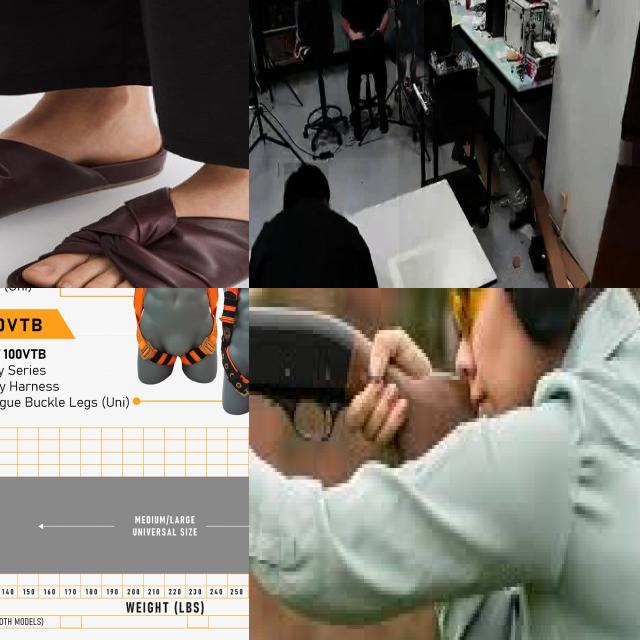Harness: (130, 288, 223, 366), (218, 288, 249, 396)
Sandals: (4, 151, 249, 288), (0, 100, 166, 242)
hand_noglove: (368, 26, 384, 40), (349, 29, 366, 42)
head_nohelmet: (284, 162, 329, 192)
person: (249, 158, 399, 288), (336, 0, 396, 155), (395, 0, 424, 99)
shoes: (347, 103, 367, 145), (373, 97, 392, 138)
